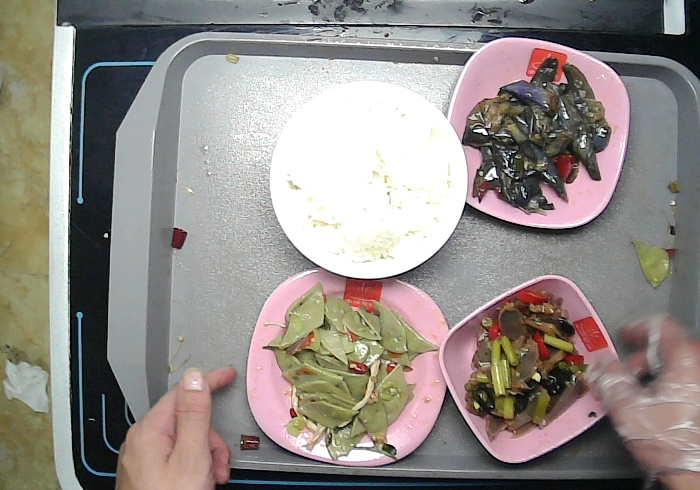SHKJ-Fan_Wan: (266, 80, 469, 284)
SHKJ-Fen_Se_Cai_Die: (445, 37, 633, 235)
SHKJ-Fen_Se_Si_Fang_Cai_Die: (244, 261, 455, 469)
SHKJ-Fen_Se_Xiao_Fang_Die: (439, 271, 630, 464)
